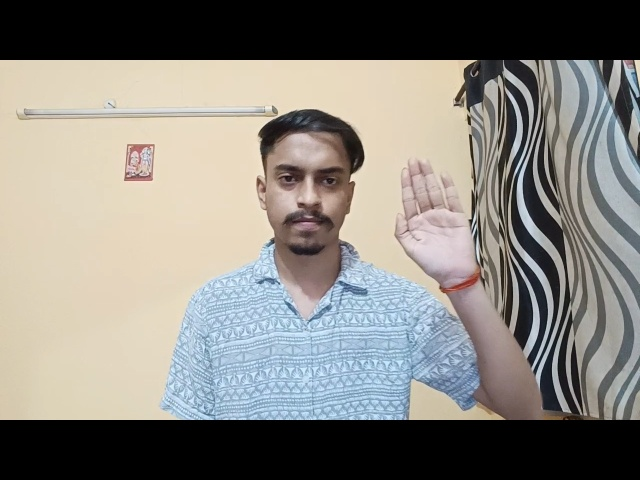Hello: (388, 149, 467, 304)
